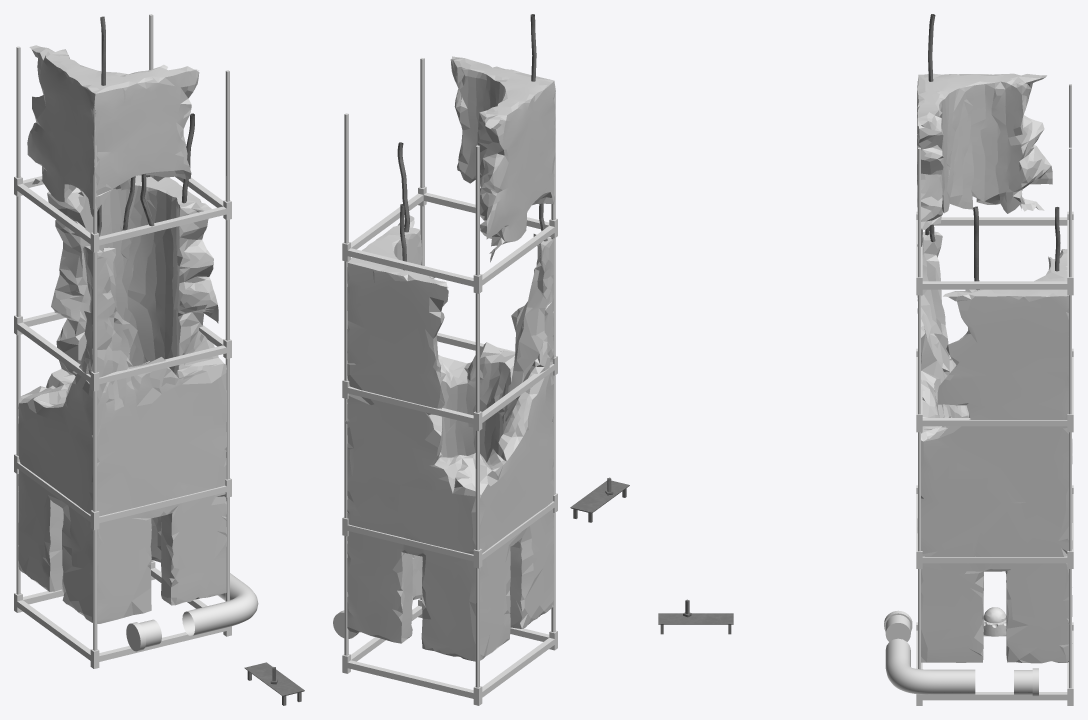
Rendered from room-03.fbx.
3 renders of one model, left to right at view 1: azimuth 30°, elevation 25°; view 2: azimuth 150°, elevation 25°; view 3: azimuth 270°, elevation 25°, orthographic.
Visible parts, largest first — view 1: pSphere3, frame, sweep1, sweep7, TABLE, pCylinder18; view 2: pSphere3, frame, sweep7, TABLE; view 3: pSphere3, frame, sweep1, sweep7, TABLE, pCylinder18, pCylinder17.
Boxes of the visible parts, x1=… form: pSphere3: x1=18, y1=45, x2=226, y2=623; frame: x1=14, y1=14, x2=231, y2=668; sweep1: x1=182, y1=573, x2=258, y2=636; sweep7: x1=97, y1=16, x2=194, y2=236; TABLE: x1=244, y1=662, x2=304, y2=705; pCylinder18: x1=126, y1=619, x2=161, y2=651; pSphere3: x1=345, y1=56, x2=555, y2=661; frame: x1=342, y1=58, x2=557, y2=705; sweep7: x1=397, y1=14, x2=547, y2=270; TABLE: x1=570, y1=477, x2=629, y2=522; pSphere3: x1=917, y1=73, x2=1072, y2=663; frame: x1=916, y1=84, x2=1073, y2=705; sweep1: x1=885, y1=638, x2=975, y2=694; sweep7: x1=917, y1=14, x2=1060, y2=290; TABLE: x1=658, y1=599, x2=733, y2=634; pCylinder18: x1=884, y1=610, x2=912, y2=641; pCylinder17: x1=1014, y1=668, x2=1038, y2=696.
Size of the model in its own units: 14.94 by 55.5 by 33.
3 materials, 1 textured.
